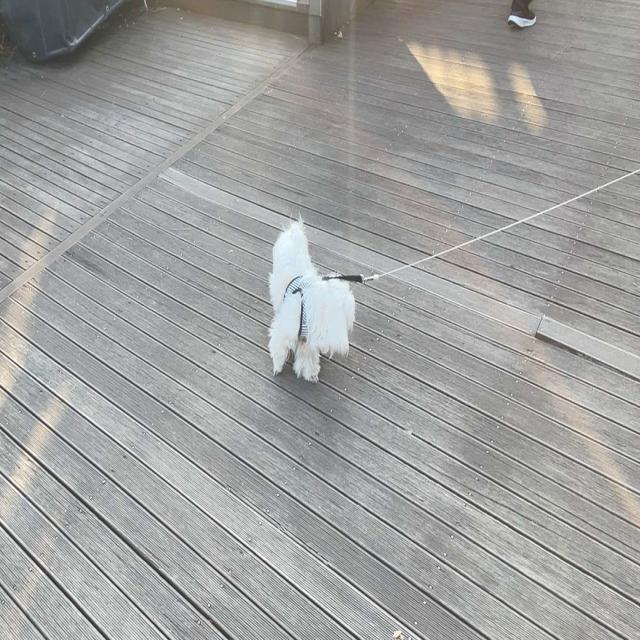Dog: (267, 214, 356, 386)
